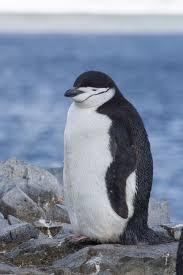chinstrap: (47, 61, 174, 257)
